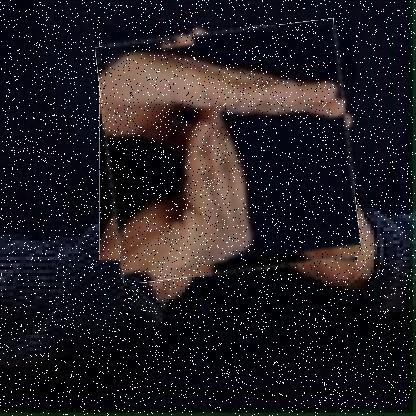Z: (102, 25, 356, 278)
